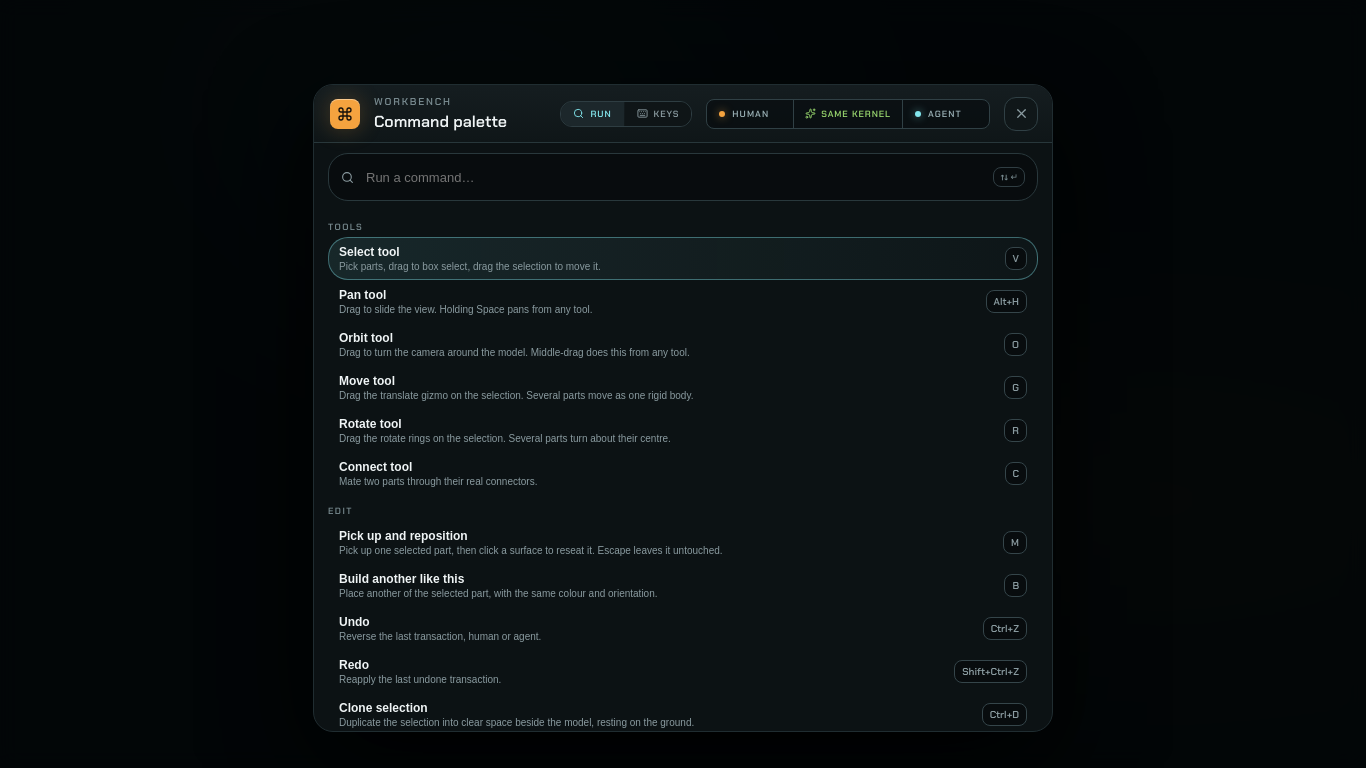
Test: command palette › reports why a command did nothing instead of closing silently
The image size is (1366, 768).
In the dropdown named "Search commands": (674, 177) x1=364 y1=168 x2=983 y2=186, type "ghost"
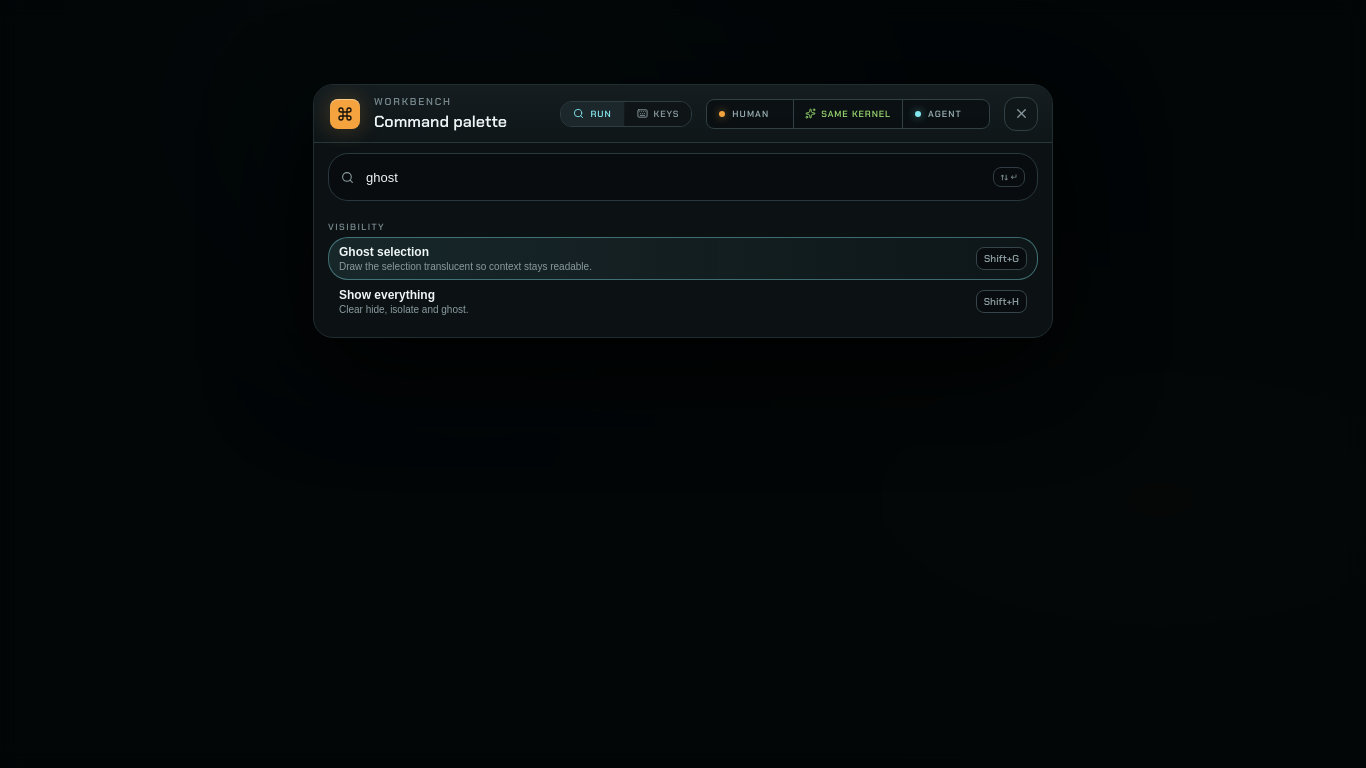
Press Enter in the dropdown named "Search commands", box x1=364 y1=168 x2=983 y2=186
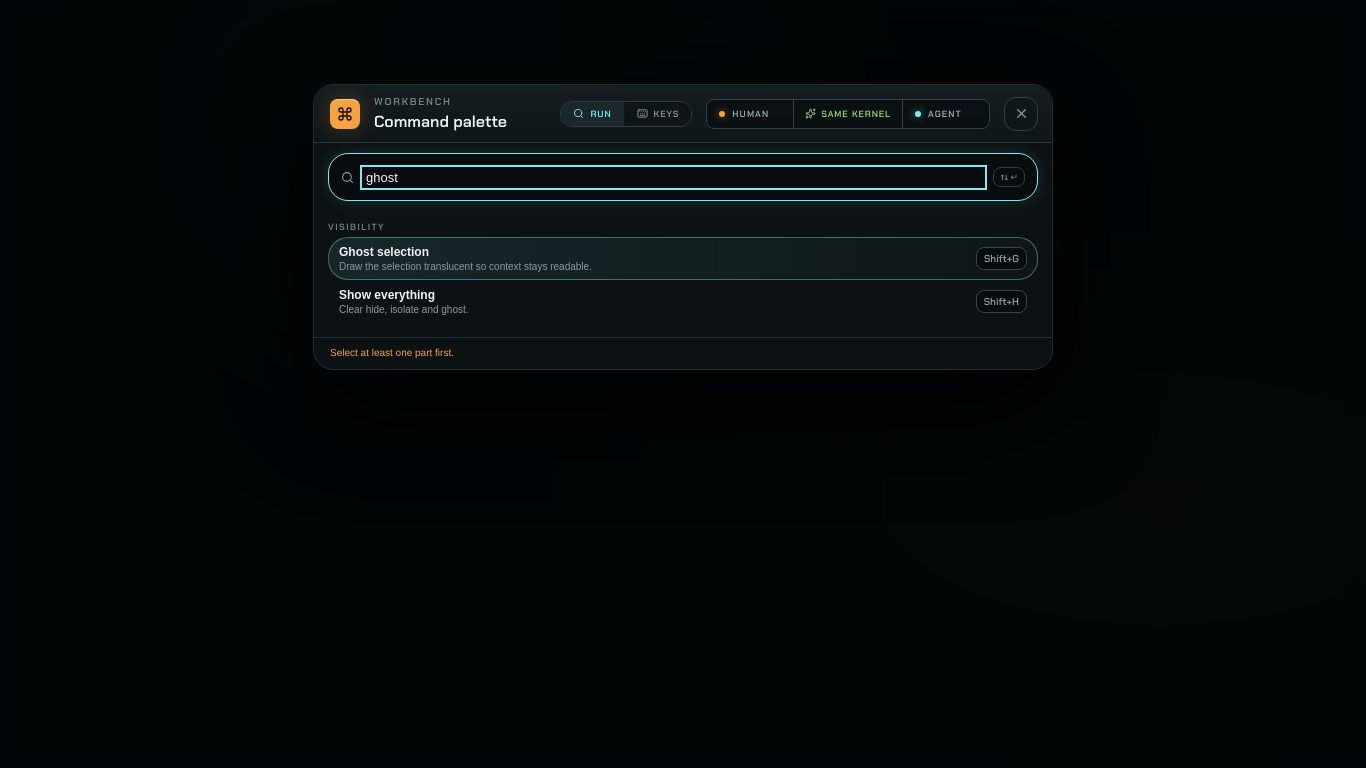
Expected: the message reads "Select at least one part first.", x1=330 y1=348 x2=454 y2=359
